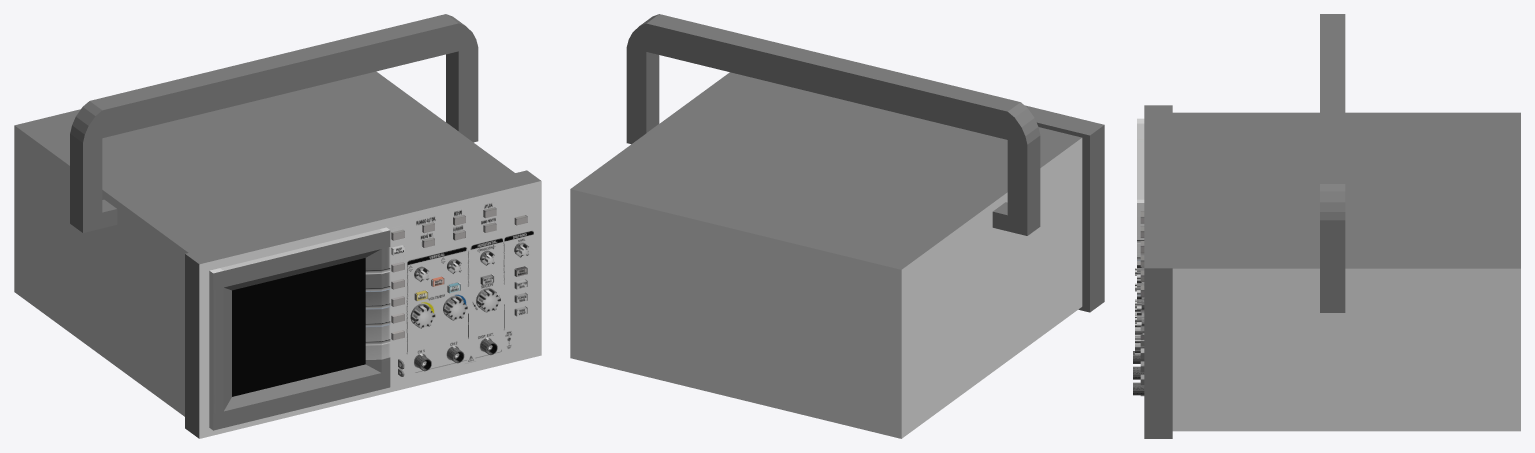
Rendered from Osciloscopio.glb.
The picture shows the model from 3 angles, left to right: view 1: azimuth 30°, elevation 25°; view 2: azimuth 150°, elevation 25°; view 3: azimuth 270°, elevation 25°; orthographic projection. The views are drawn at different scales.
Parts seen in each view (by area): view 1: Plane; view 2: Plane; view 3: Plane.
Boxes of the visible parts, x1,y1,x2,y2 form: Plane: (14, 14, 541, 438); Plane: (570, 14, 1104, 438); Plane: (1133, 14, 1520, 438).
Bounding box in the file's own units: 0.2368 × 0.1515 × 0.206.
Materials: 1 (1 with a texture image).
